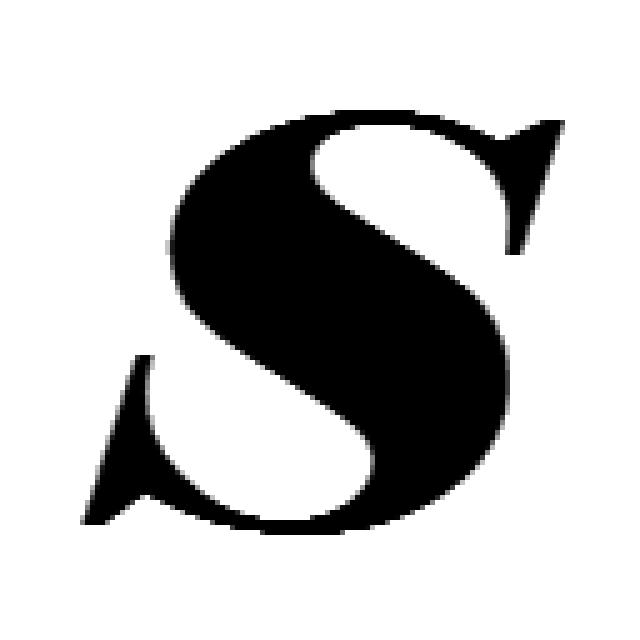S: (82, 113, 575, 532)
